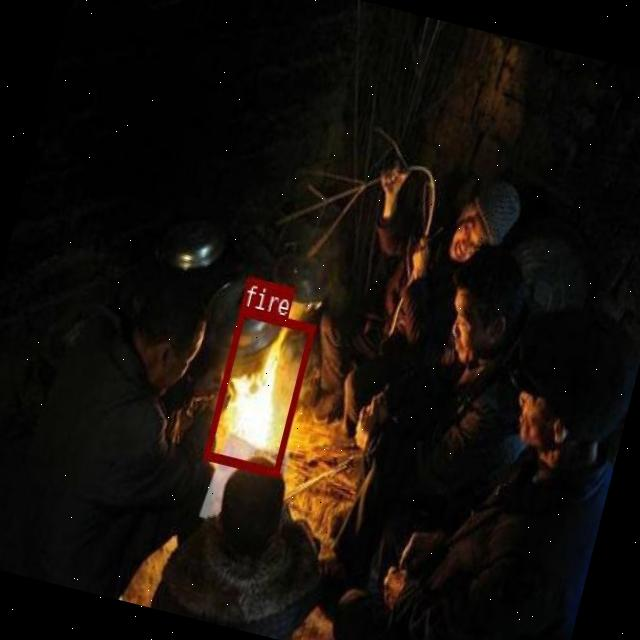fire: (202, 306, 314, 476)
